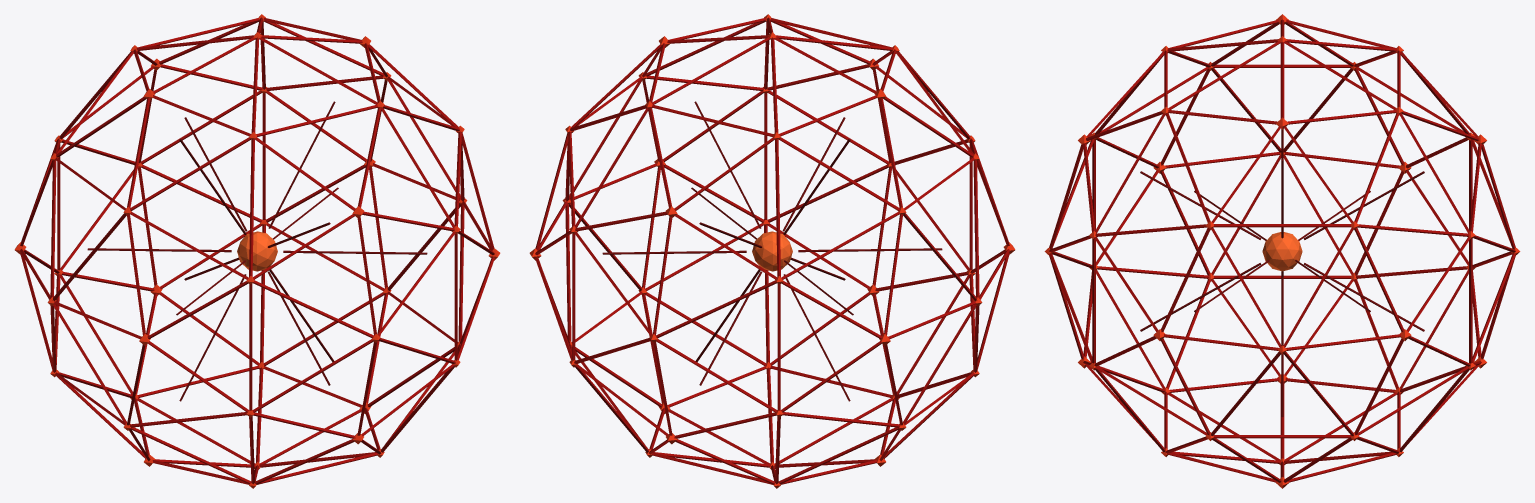
The model's file is core_hologram.obj.
The picture shows the model from 3 angles, left to right: view 1: azimuth 30°, elevation 25°; view 2: azimuth 150°, elevation 25°; view 3: azimuth 270°, elevation 25°; orthographic projection.
Visible parts, largest first — view 1: core_hologram_Holo_Lattice, core_hologram_Holo_Faint, core_hologram_Holo_Node, core_hologram_Holo_Hot; view 2: core_hologram_Holo_Lattice, core_hologram_Holo_Faint, core_hologram_Holo_Node, core_hologram_Holo_Hot; view 3: core_hologram_Holo_Lattice, core_hologram_Holo_Faint, core_hologram_Holo_Node, core_hologram_Holo_Hot.
Part boxes in pixels (bbox=[...]): core_hologram_Holo_Lattice: bbox=[20, 17, 494, 484]; core_hologram_Holo_Faint: bbox=[87, 101, 427, 401]; core_hologram_Holo_Node: bbox=[14, 14, 500, 488]; core_hologram_Holo_Hot: bbox=[237, 231, 277, 271]; core_hologram_Holo_Lattice: bbox=[535, 17, 1009, 484]; core_hologram_Holo_Faint: bbox=[602, 101, 942, 401]; core_hologram_Holo_Node: bbox=[529, 14, 1015, 488]; core_hologram_Holo_Hot: bbox=[752, 231, 792, 271]; core_hologram_Holo_Lattice: bbox=[1049, 19, 1515, 482]; core_hologram_Holo_Faint: bbox=[1140, 129, 1424, 416]; core_hologram_Holo_Node: bbox=[1044, 14, 1520, 488]; core_hologram_Holo_Hot: bbox=[1262, 232, 1302, 271].
Bounding box in the file's own units: 0.971 × 0.971 × 0.971.
